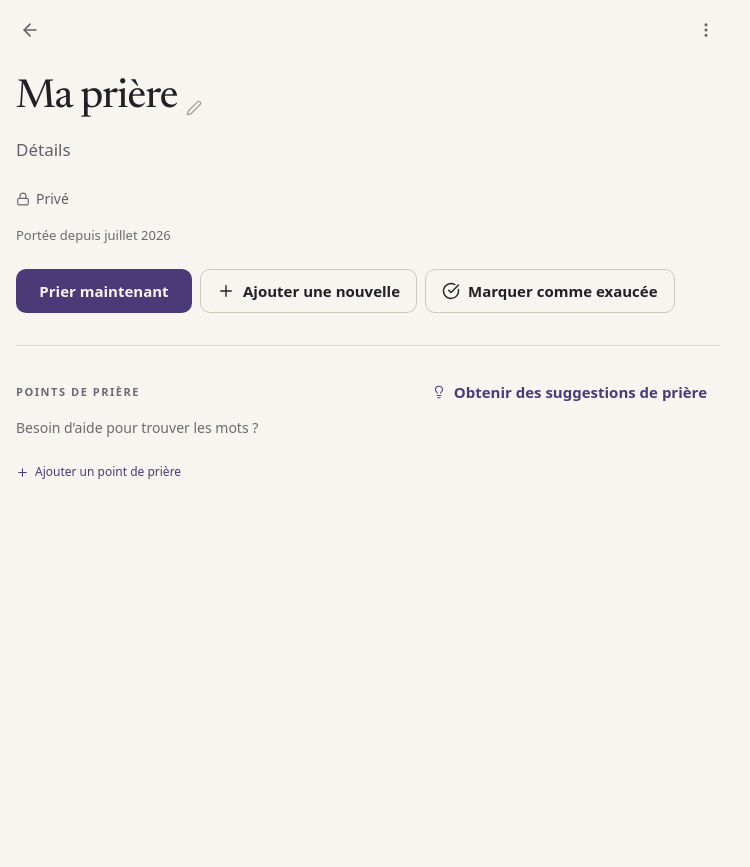
it: PrayerDetail — leads with prayer › Schedule from the overflow opens the planner as a contextual disclosure
Click the button named "Options": (706, 30) [684,8,728,52]
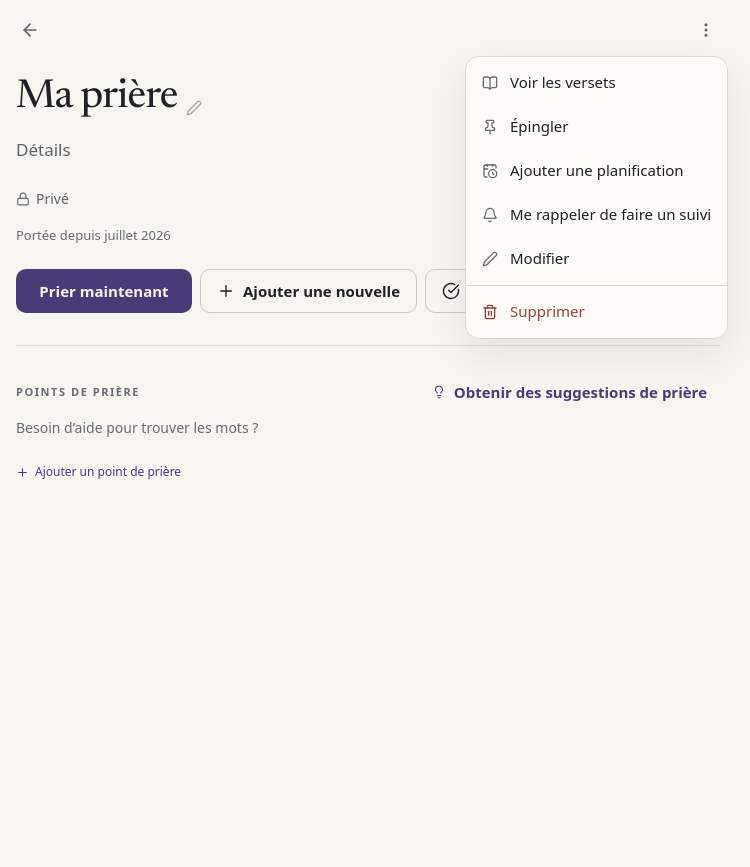
Click the menu item "Ajouter une planification": (597, 171) [466,149,727,193]
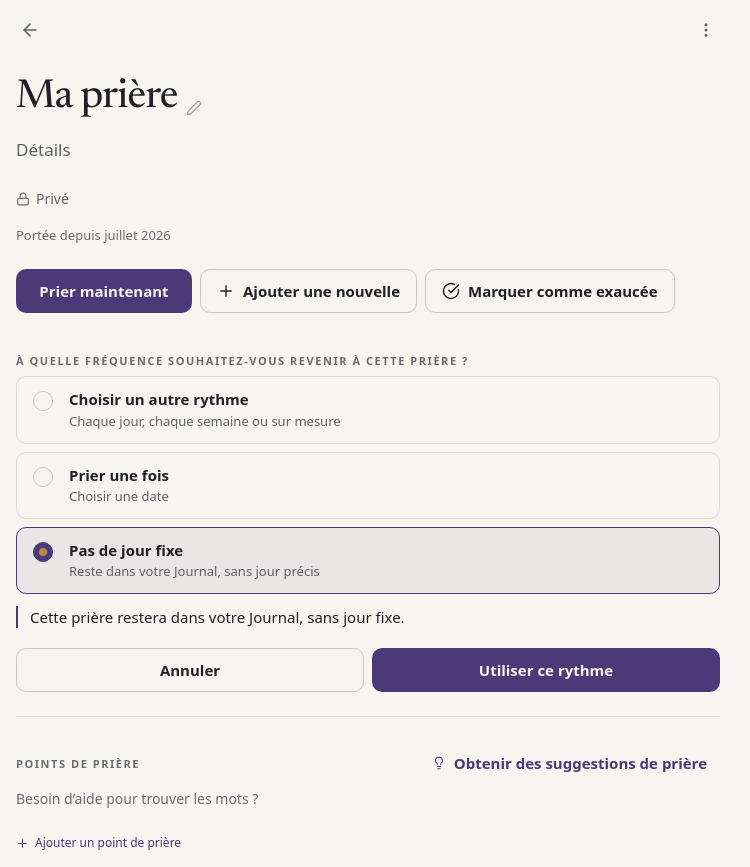
Check: the text "À quelle fréquence souhaitez-vous revenir à cette prière ?" is shown, box [16,353,469,368]
Check: the text "Utiliser ce rythme" is shown, box [479,661,613,679]
Click the button "Annuler": (190, 670) [16,648,364,692]
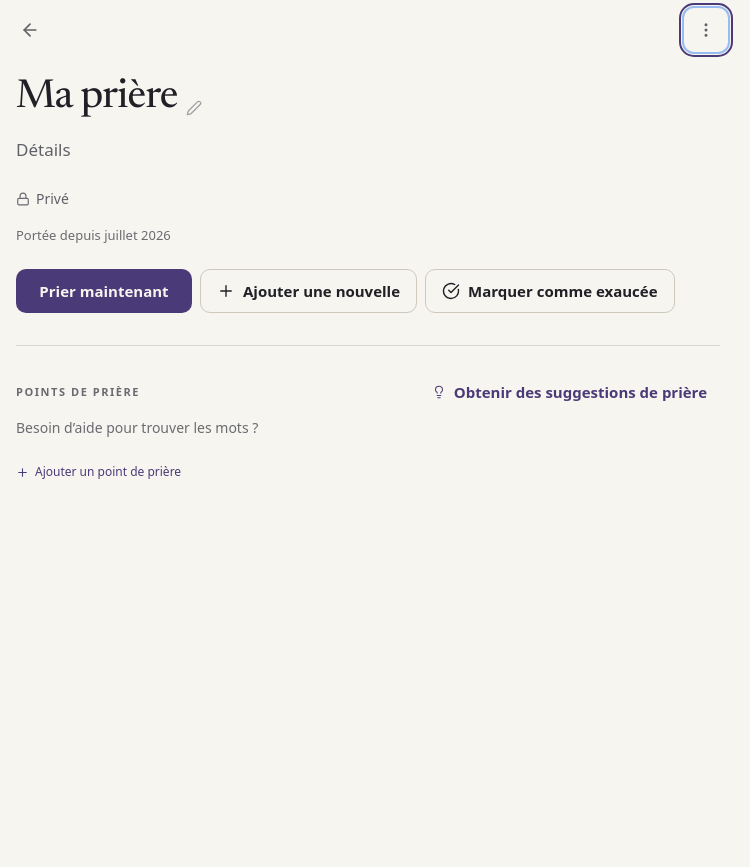
Check: the button "Utiliser ce rythme" is gone
